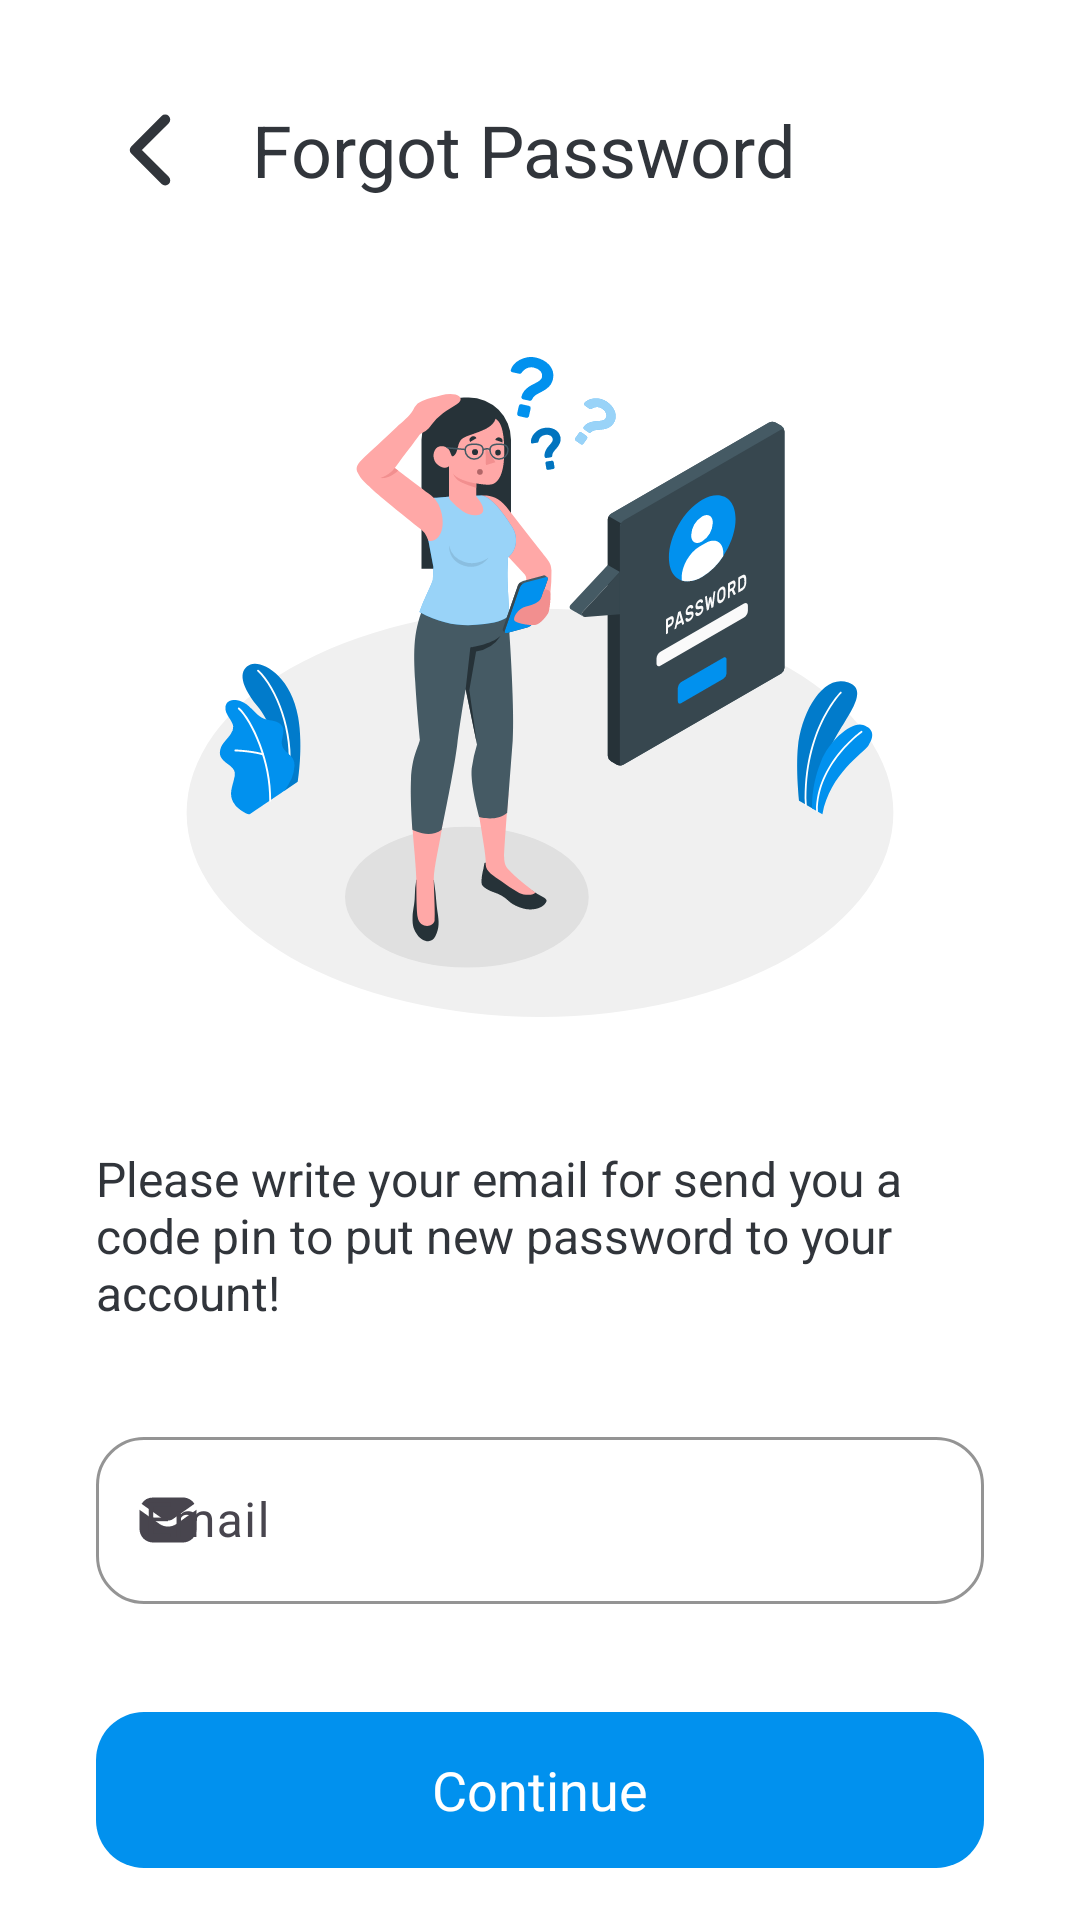

Icon click points for this 1080w x 1920h phone screenshot, format (x=x, y=y):
back: (x=150, y=150)
